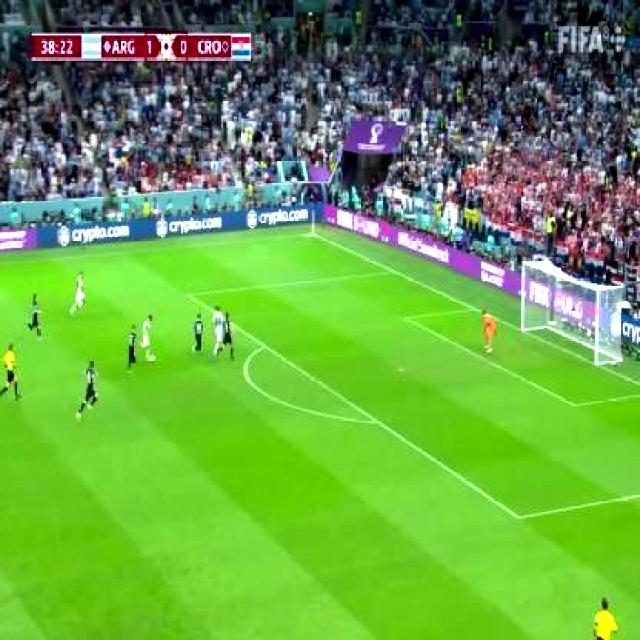bigarea_top_inner: (184, 290, 193, 302)
bigarea_top_outter: (391, 268, 397, 277)
bottom_arc_area_intersection: (512, 508, 526, 528), (371, 414, 383, 428)
corner: (310, 231, 318, 238)
smallarea_bottom_inner: (568, 395, 582, 414)
smallarea_top_inner: (403, 314, 412, 326)
smallarea_top_outter: (469, 304, 477, 316)
top_arc_area_intersection: (260, 340, 269, 352)
